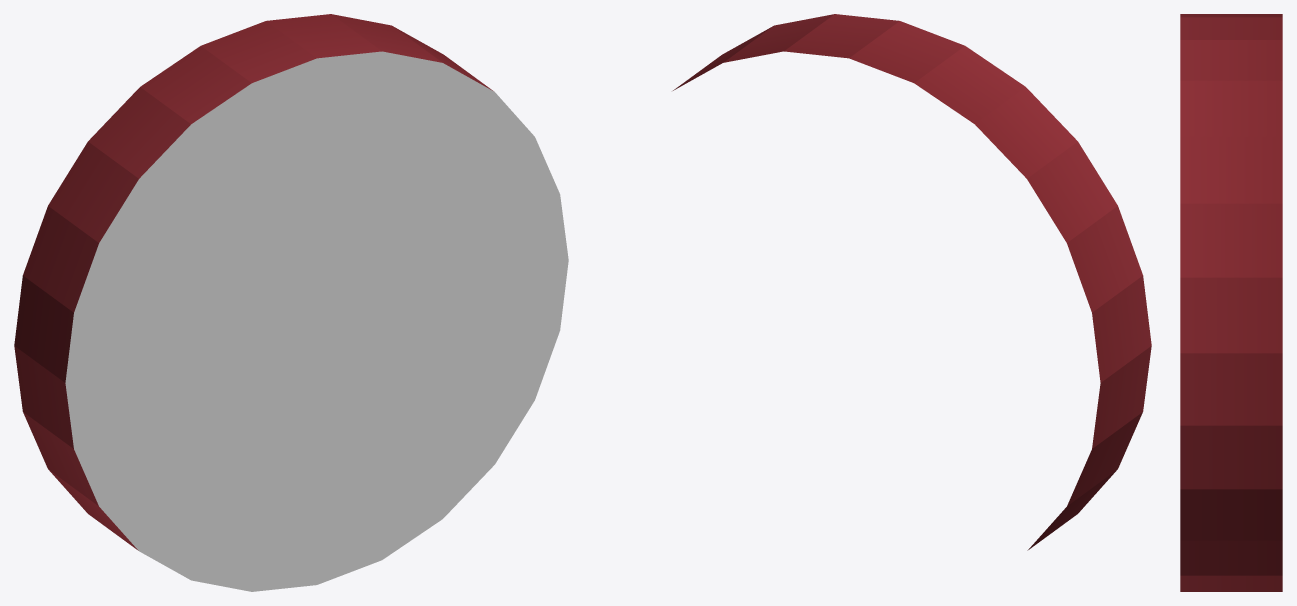
The model's file is JacksonStormWheel1.glb.
3 views of the same model, side by side, from view 1: azimuth 30°, elevation 25°; view 2: azimuth 150°, elevation 25°; view 3: azimuth 270°, elevation 25° (orthographic).
Parts seen in each view (by area): view 1: JacksonStormWheel1; view 2: JacksonStormWheel1; view 3: JacksonStormWheel1.
Part boxes in pixels (x1,y1,x2,y2): JacksonStormWheel1: [14, 14, 568, 591]; JacksonStormWheel1: [673, 14, 1151, 550]; JacksonStormWheel1: [1180, 14, 1282, 591].
Bounding box in the file's own units: 1.11 × 1.11 × 0.1962.
